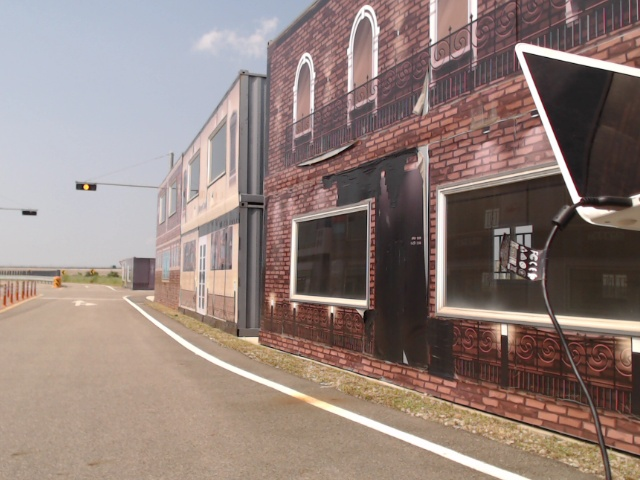orange_3: (74, 180, 99, 191)
